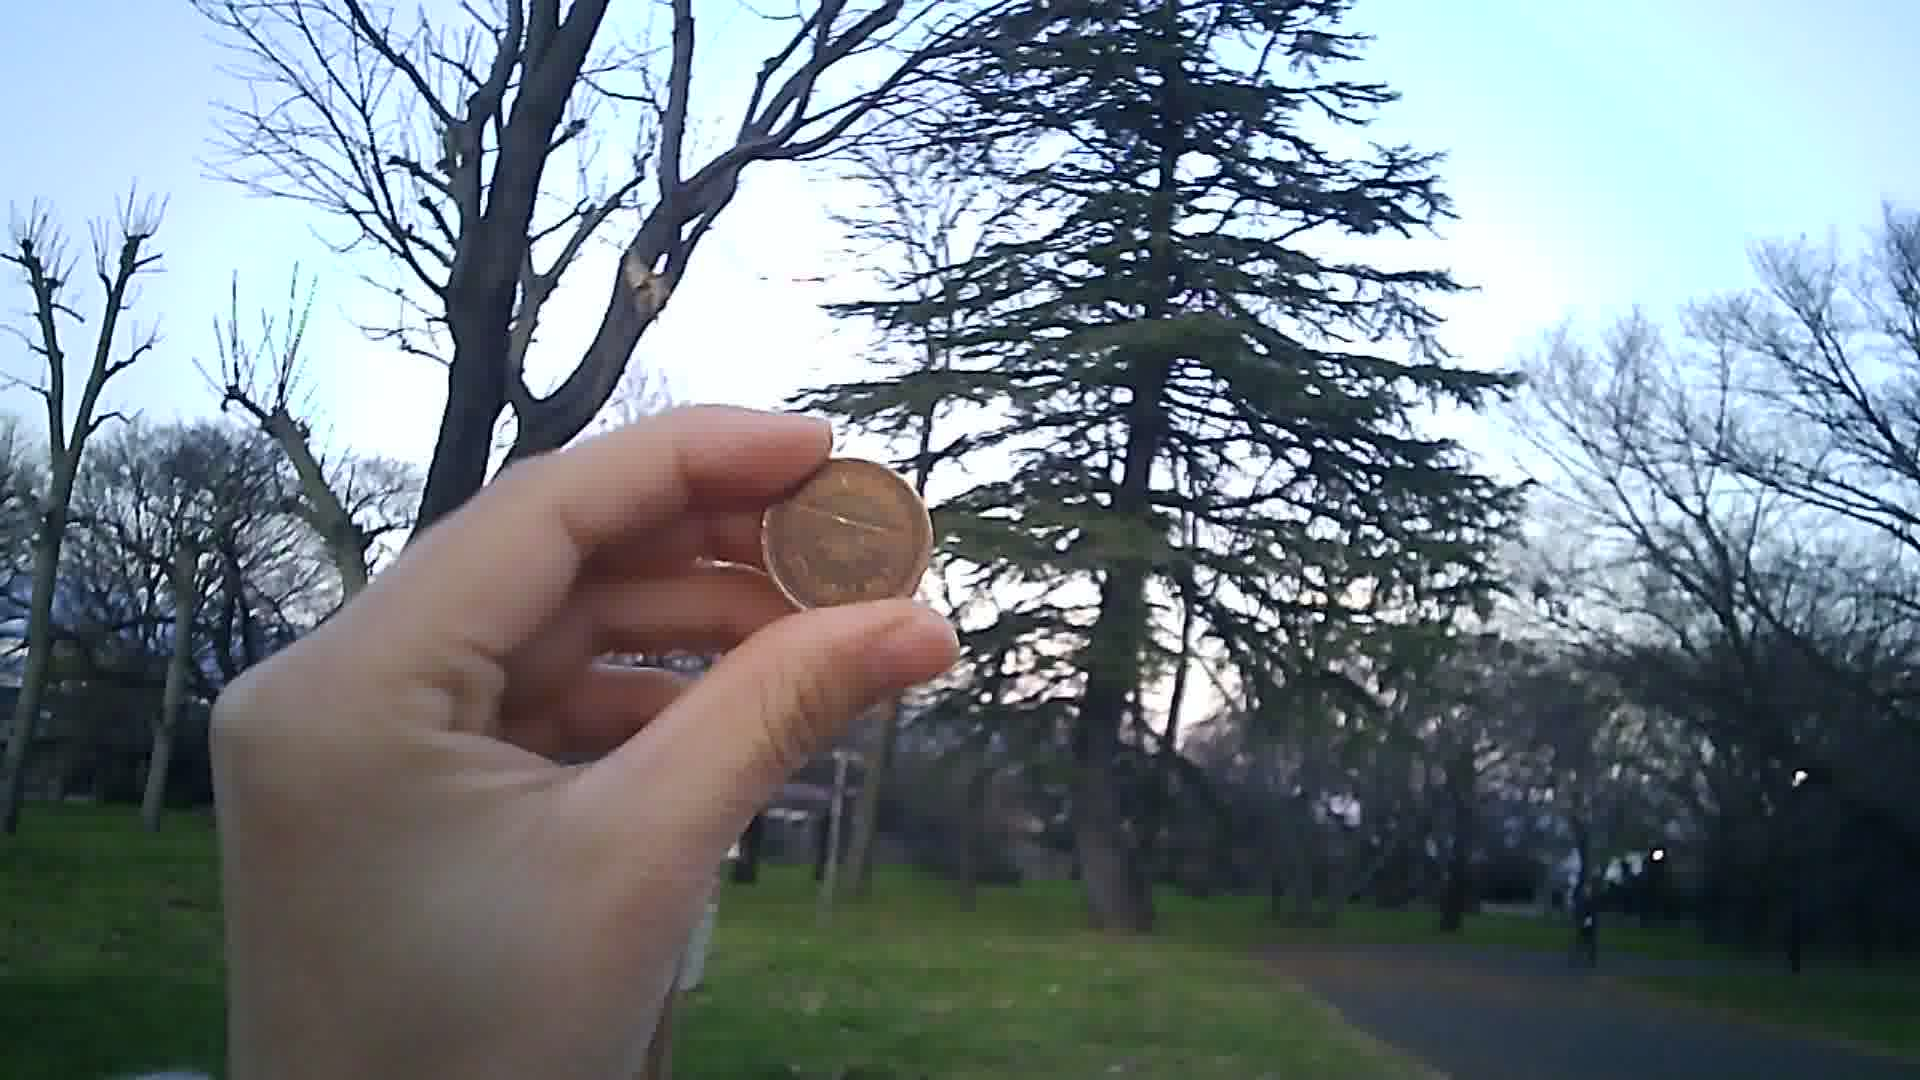10 Yen: (752, 444, 935, 612)
